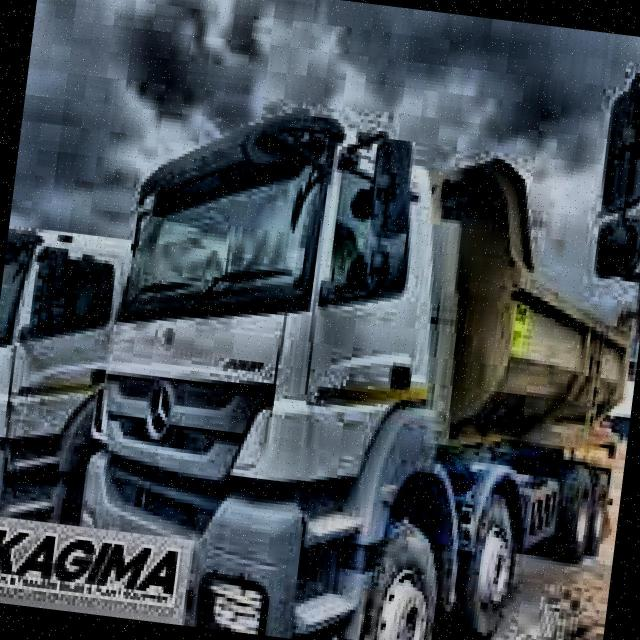dump_truck: (76, 97, 640, 640)
